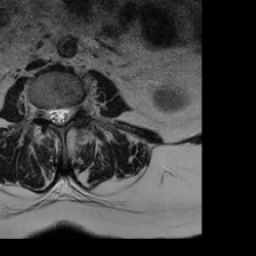CCS_normal: (56, 99, 64, 131)
LFS_normal: (72, 92, 81, 119)
LLS_normal: (64, 99, 72, 125)
RFS_normal: (39, 97, 47, 125)
RLS_normal: (47, 98, 56, 128)
